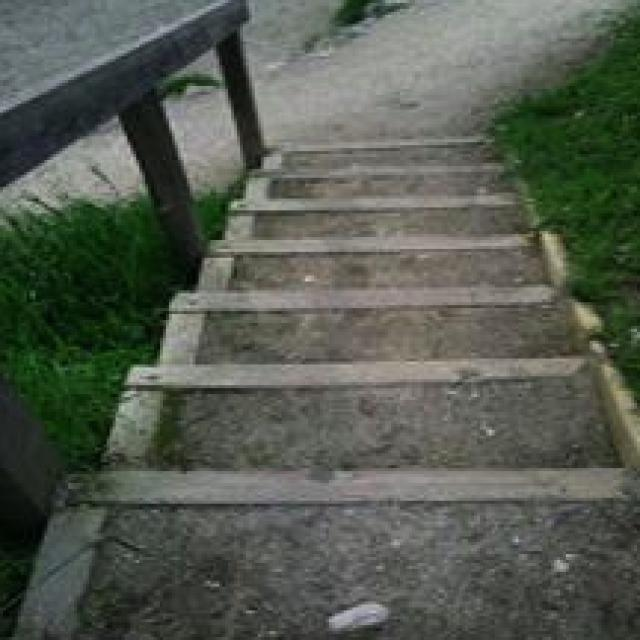downstair: (43, 377, 549, 640)
